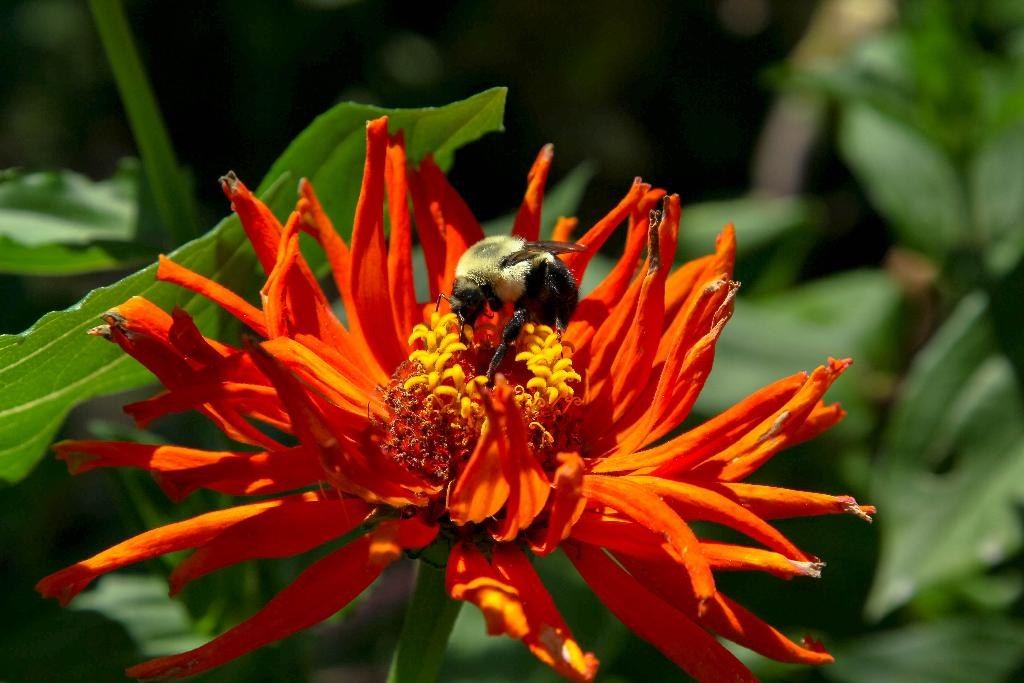bee: (442, 221, 597, 362)
insect: (33, 115, 874, 682)
